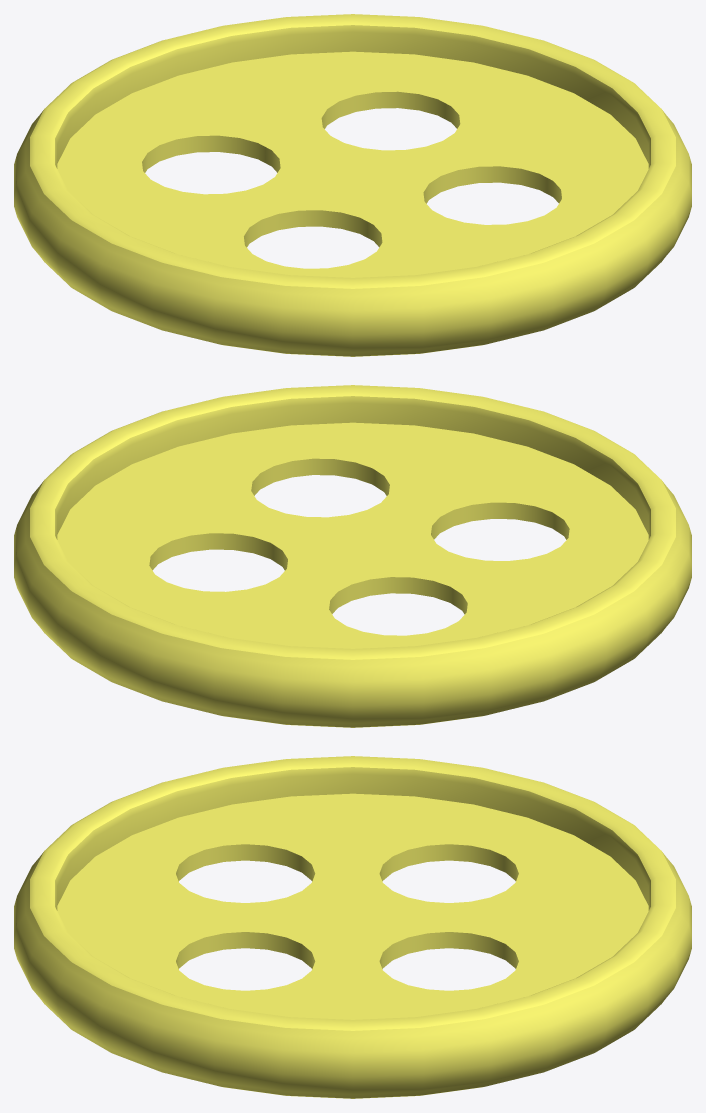
Rendered from button_yellow.fbx.
3 views of the same model, one above another, from view 1: azimuth 30°, elevation 25°; view 2: azimuth 150°, elevation 25°; view 3: azimuth 270°, elevation 25° (orthographic).
Visible parts, largest first — view 1: button_yellow; view 2: button_yellow; view 3: button_yellow.
Boxes of the visible parts, x1,y1,x2,y2 form: button_yellow: (14, 14, 691, 356); button_yellow: (14, 385, 691, 727); button_yellow: (14, 756, 691, 1098).
Bounding box in the file's own units: 119 × 14.06 × 119.
